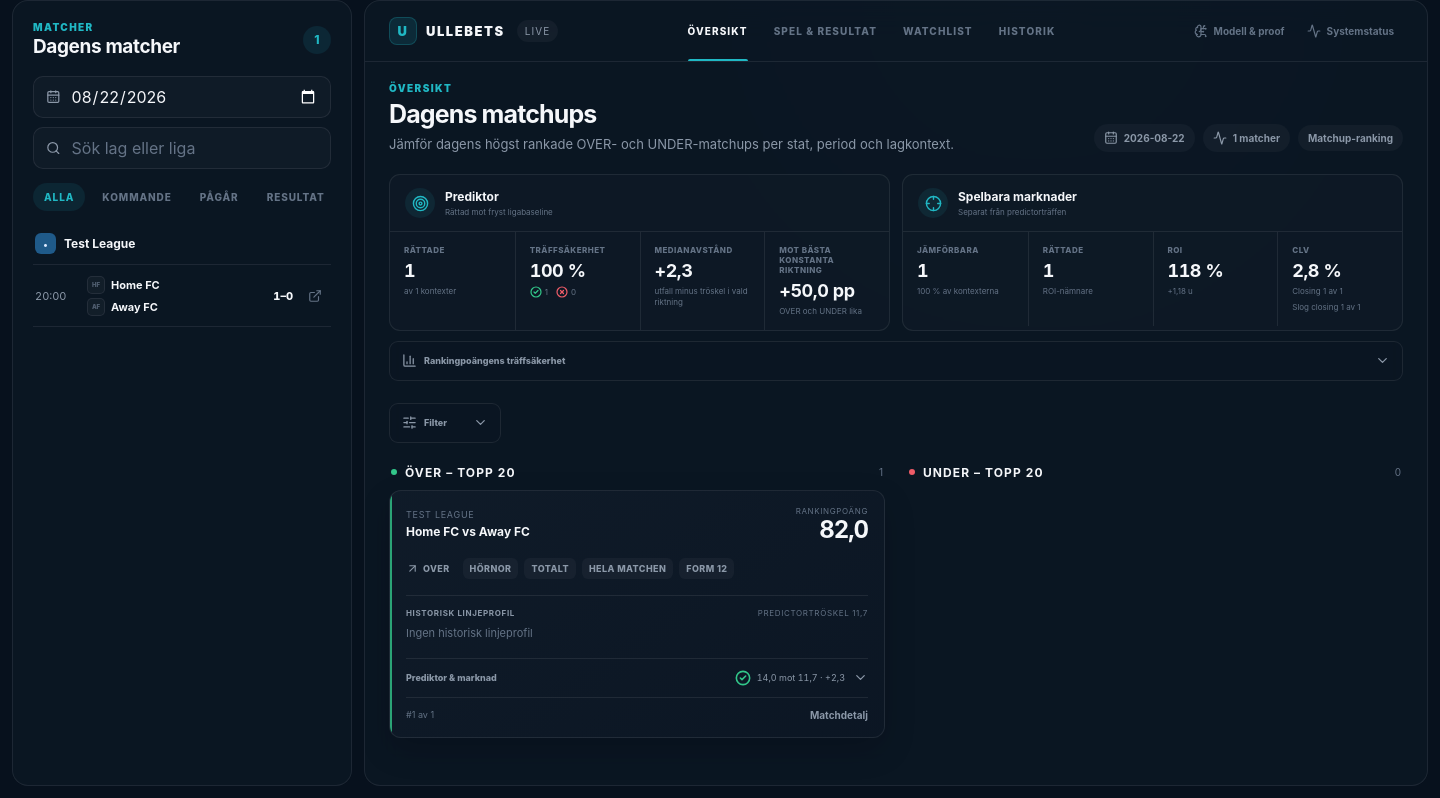
it: Rättade matchups › visar prediktor, marknadsutfall, odds movement och CLV
This screenshot has width=1440, height=798.
Expected: the heading "Prediktor" is shown, [445, 189, 499, 204]
Expected: the text "+50,0 pp" is shown, [779, 280, 855, 301]
Click the heading "Rankingpoängens träffsäkerhet". click: (495, 361)
box: [402, 353, 1390, 368]
(page scrolled)
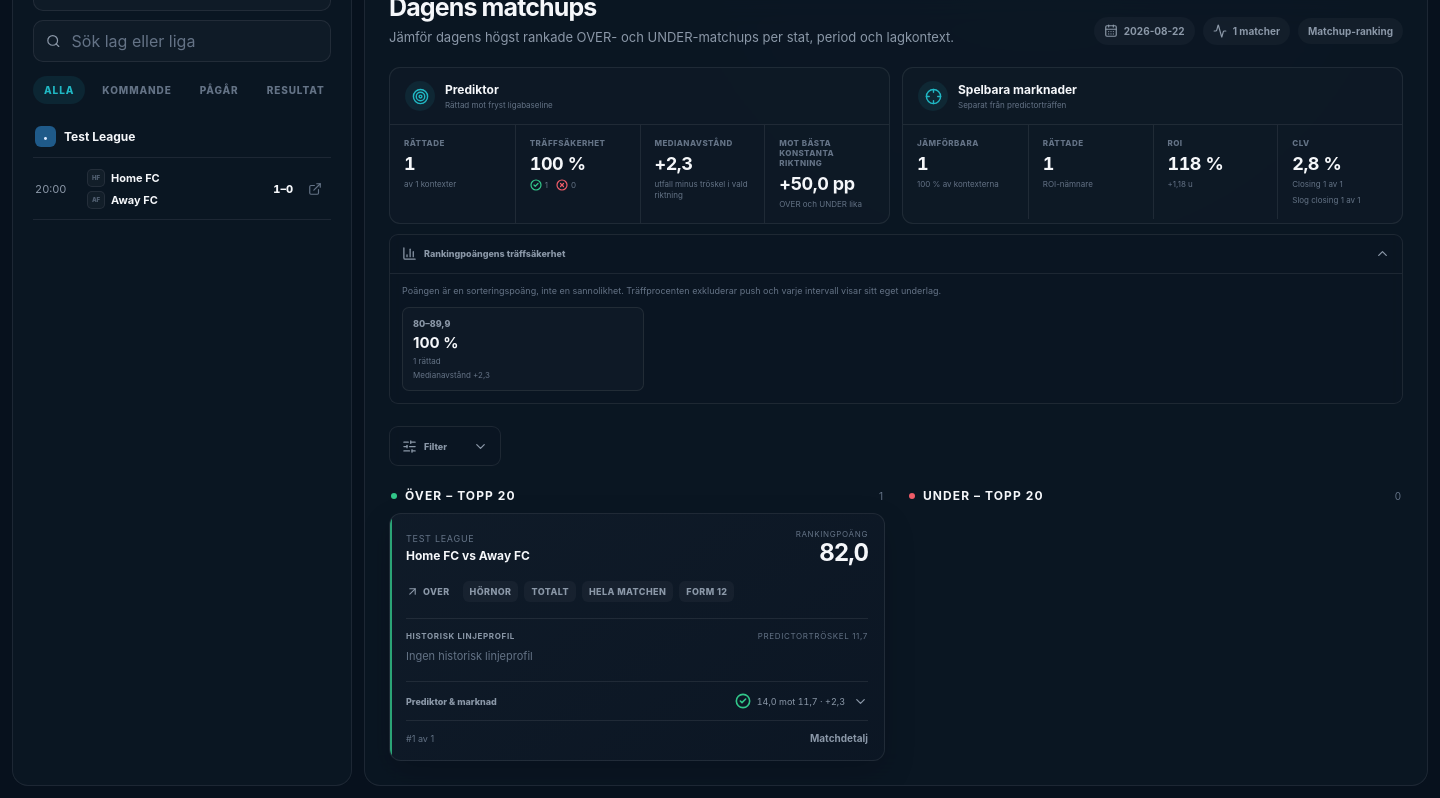
Expected: the picture named "Prediktor: träff" is shown, [735, 694, 751, 710]
Expected: the text "80–89,9" is shown, [413, 318, 450, 329]
Expected: the text "1 rättad" is shown, [413, 356, 441, 366]
Click the text "Prediktor & marknad". click: (451, 702)
box: [406, 696, 497, 707]
(page scrolled)
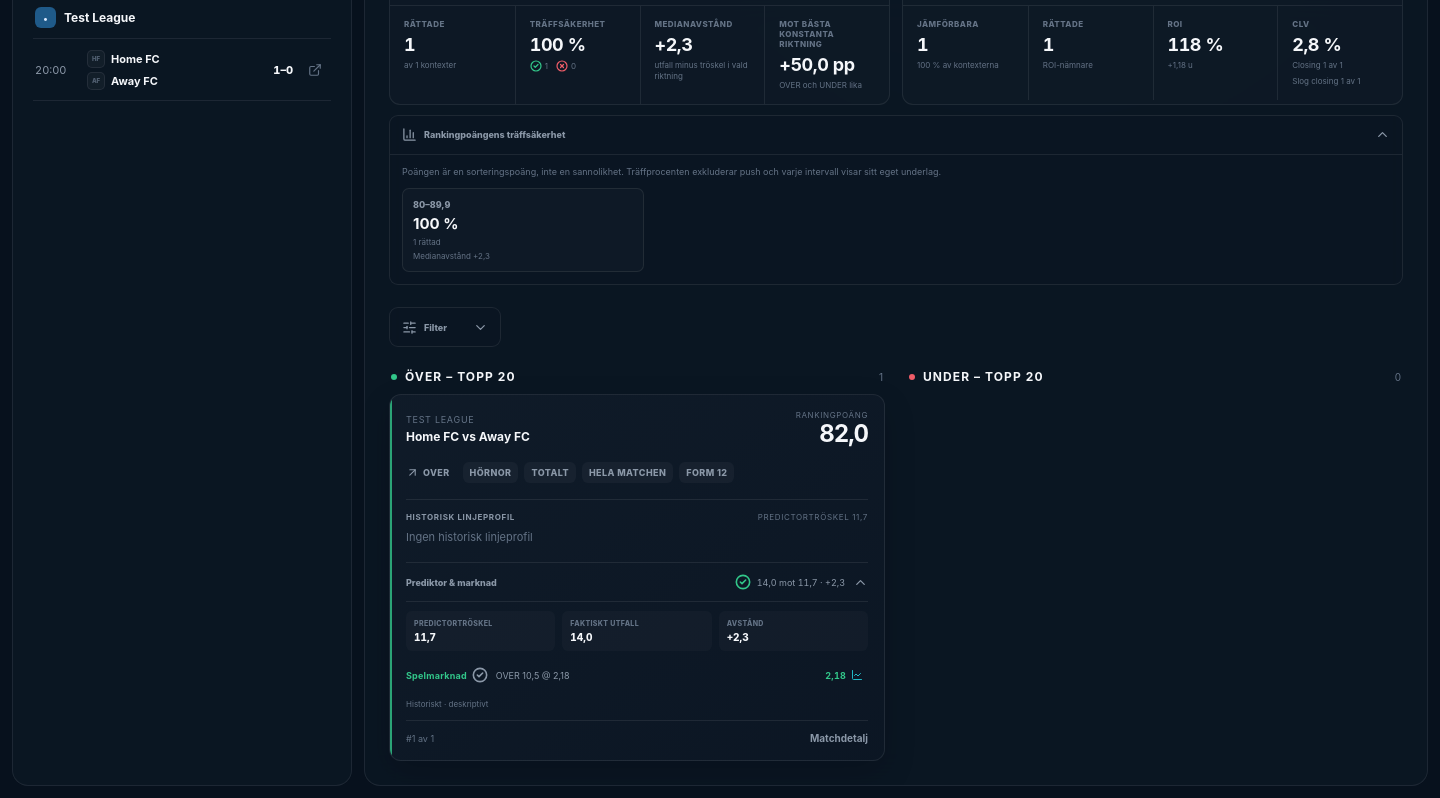
Expected: the picture named "Marknad: vunnen" is shown, [472, 668, 488, 684]
Expected: the text "Predictortröskel" is shown, [414, 620, 493, 628]
Expected: the text "Faktiskt utfall" is shown, [570, 620, 639, 628]
Hover over the button named "Visa oddsrörelse" at (843, 676), box [817, 660, 868, 690]
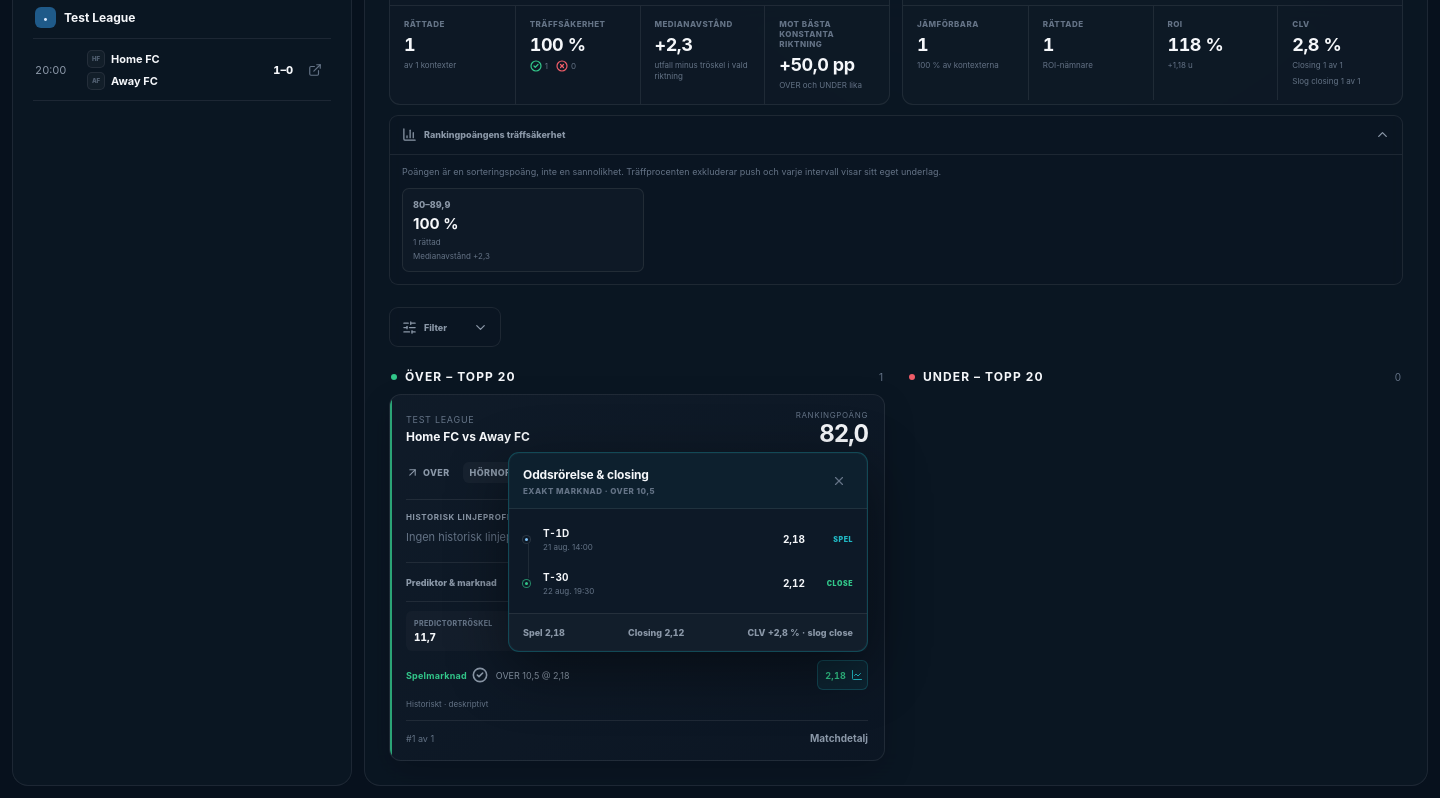
Expected: the dialog "Oddsrörelse & closing" is shown, [508, 452, 868, 652]
Press Escape
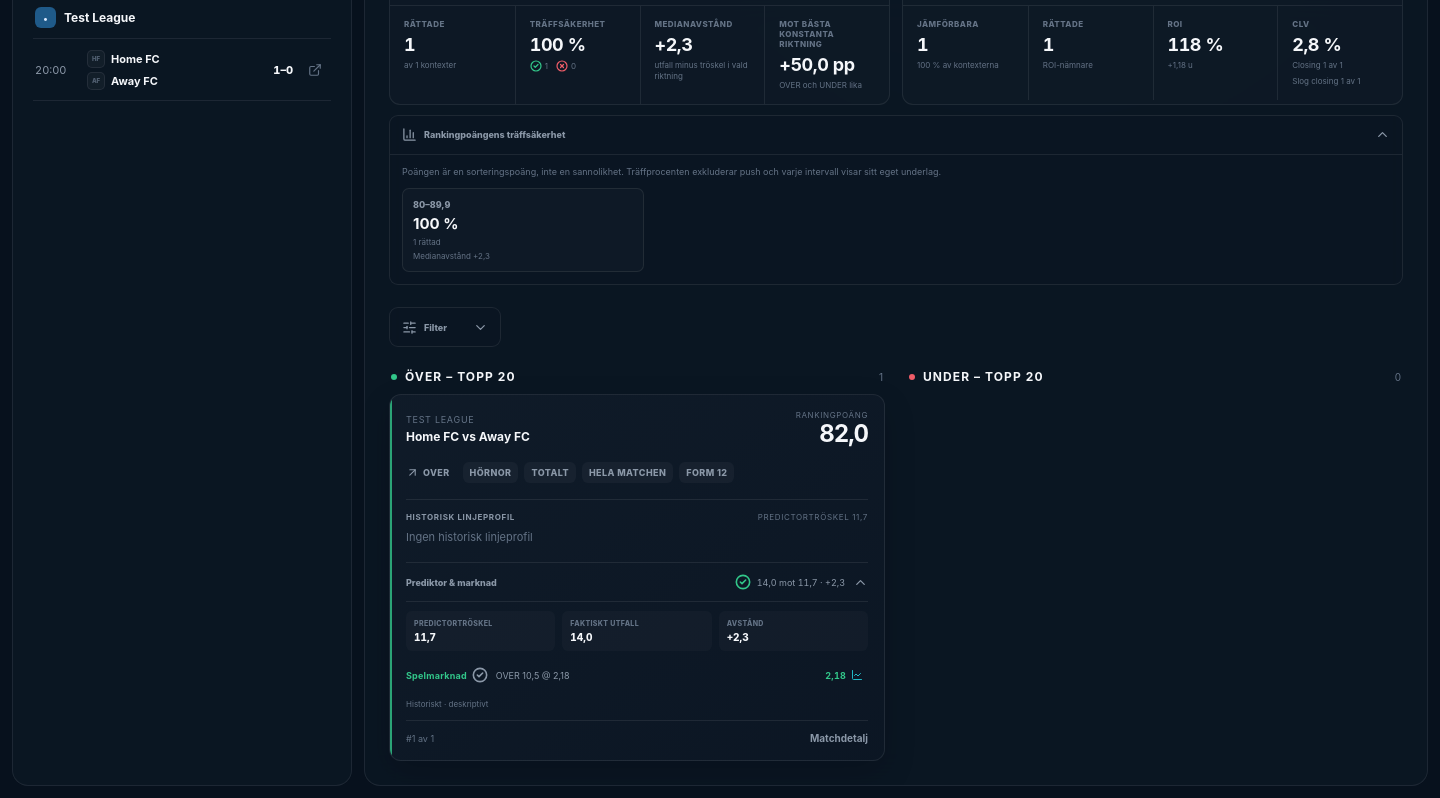
Click the button named "Visa oddsrörelse". click: (843, 676)
box: [817, 660, 868, 690]
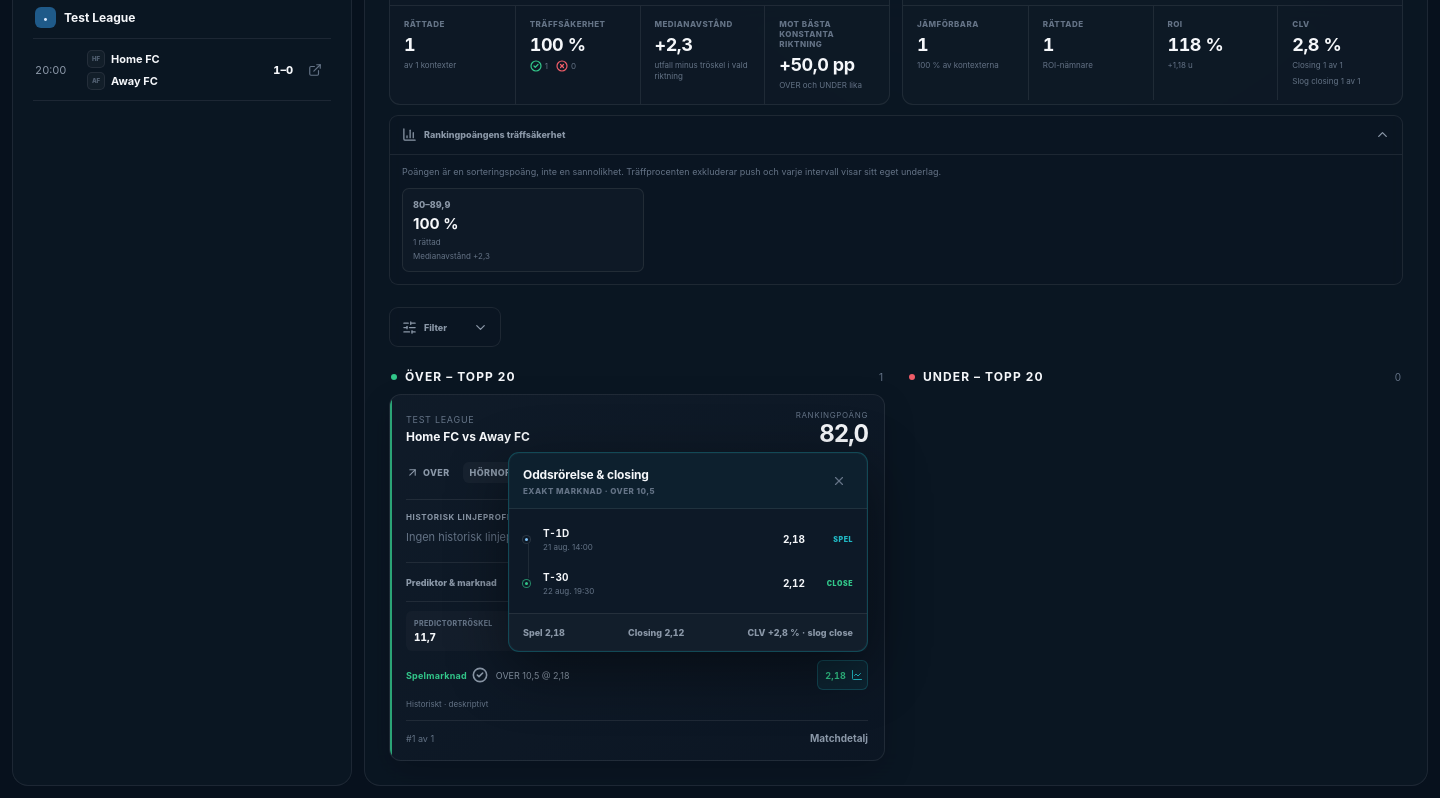
Expected: the text "CLV +2,8 % · slog close" is shown, [748, 628, 853, 638]
